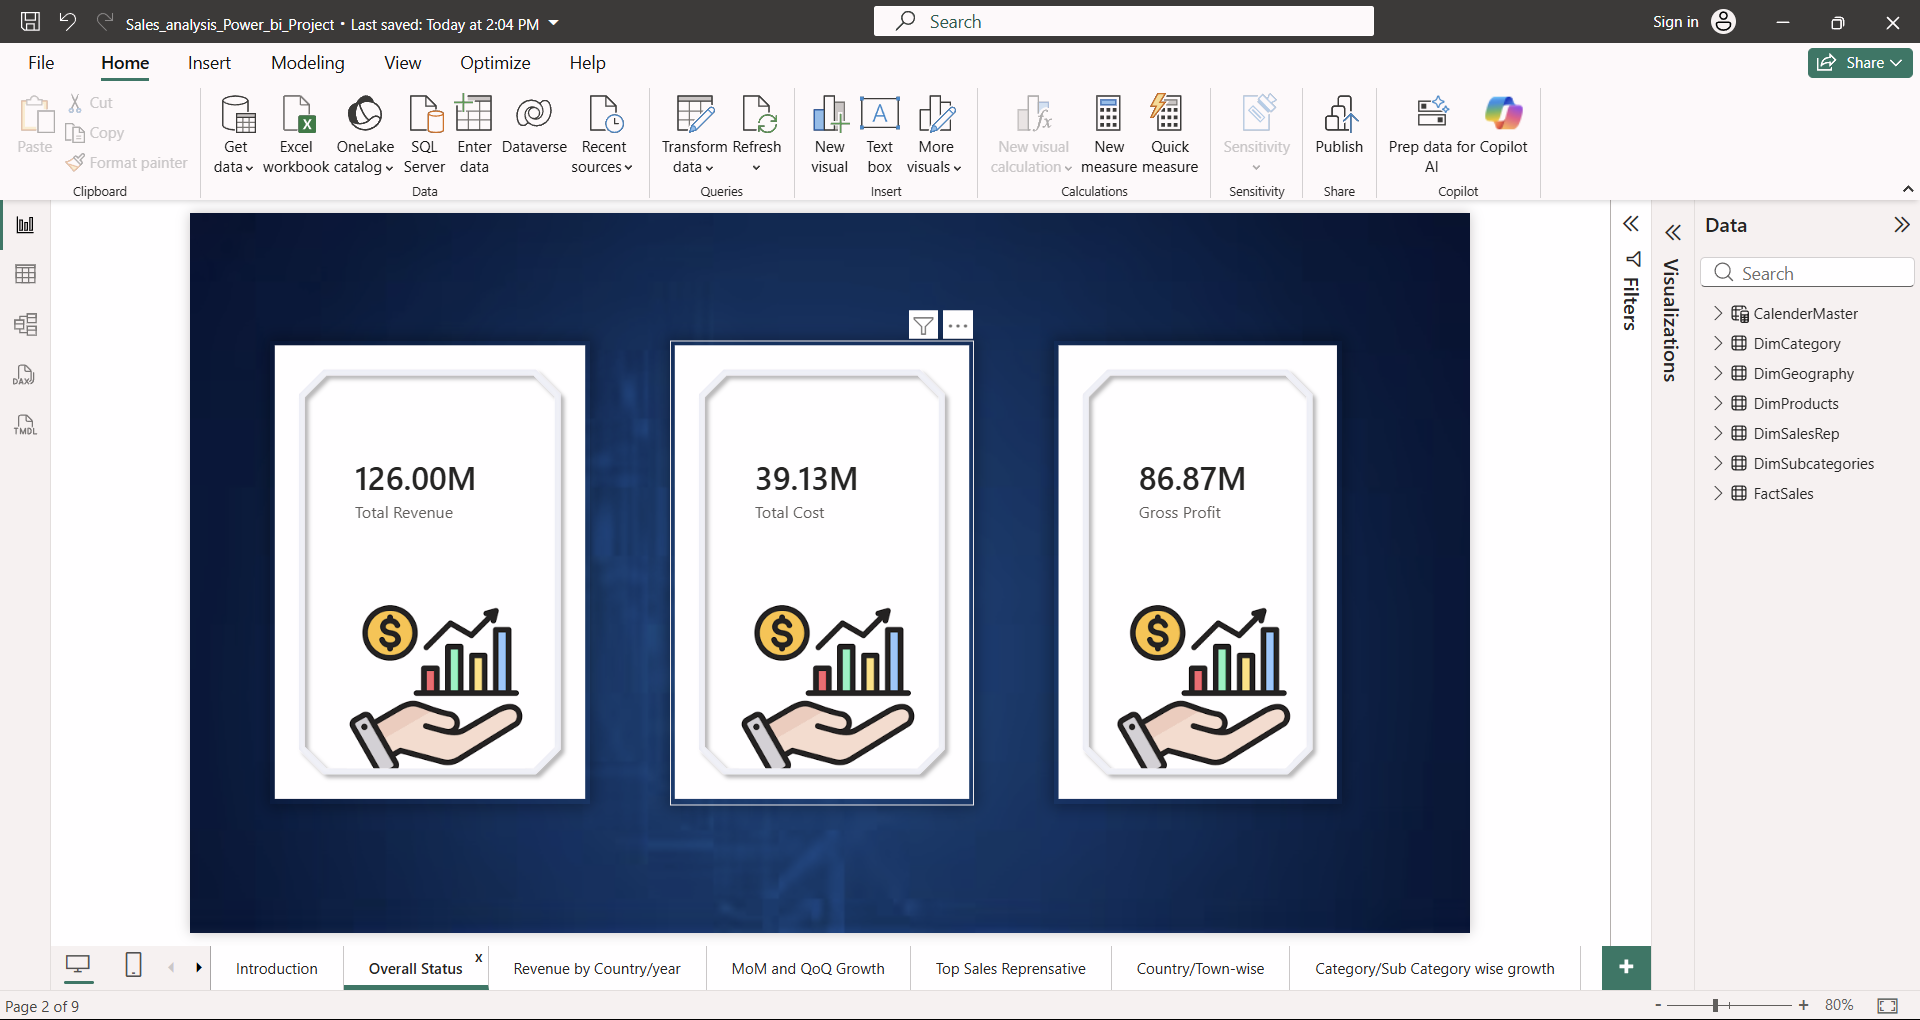

The page's visual inventory and layout, read from the dashboard file:
{"tool":"powerbi","page":{"name":"Overall Status","canvas":[1280,720],"ordinal":1},"visuals":[{"type":"cardVisual","fields":{"Data":["FactSales.Total Revenue"]},"box":[80,128,320,464],"z":0},{"type":"cardVisual","fields":{"Data":["FactSales.Total Cost"]},"box":[480,128,304,464],"z":1000},{"type":"cardVisual","fields":{"Data":["FactSales.Gross Profit"]},"box":[864,128,288,464],"z":2000}]}

Visuals, with their boxes on the page's 1280x720 design canvas (x1, y1, x2, y2). These are canvas units, not pixel positions in the 1920x1020 screenshot, which may show the page scaled, cropped or inside an application window:
cardVisual - FactSales.Total Revenue: (left=80, top=128, right=400, bottom=592)
cardVisual - FactSales.Total Cost: (left=480, top=128, right=784, bottom=592)
cardVisual - FactSales.Gross Profit: (left=864, top=128, right=1152, bottom=592)
